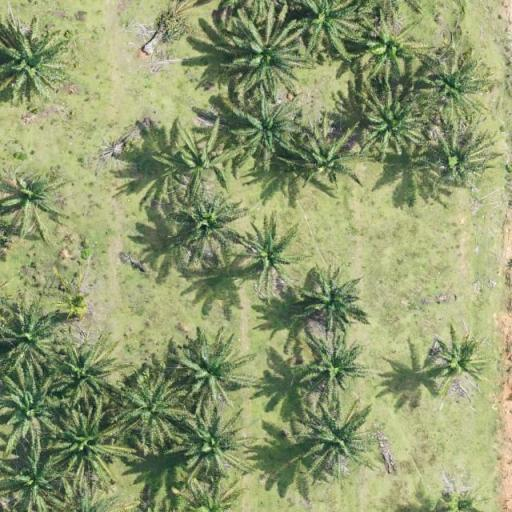Ganoderma: (433, 340, 486, 390), (370, 28, 410, 63)
